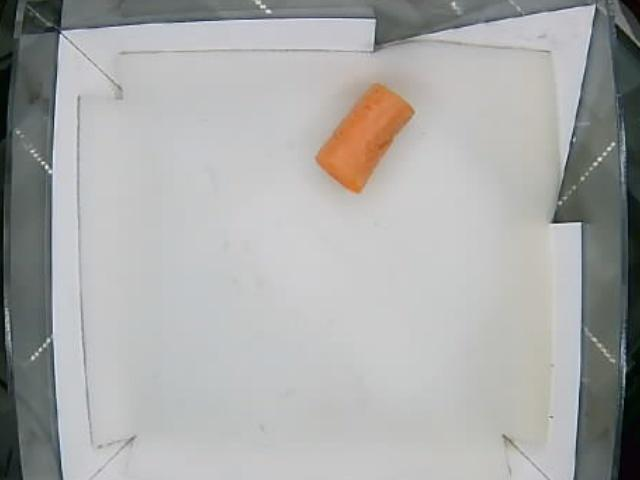Carrot: (314, 84, 416, 194)
